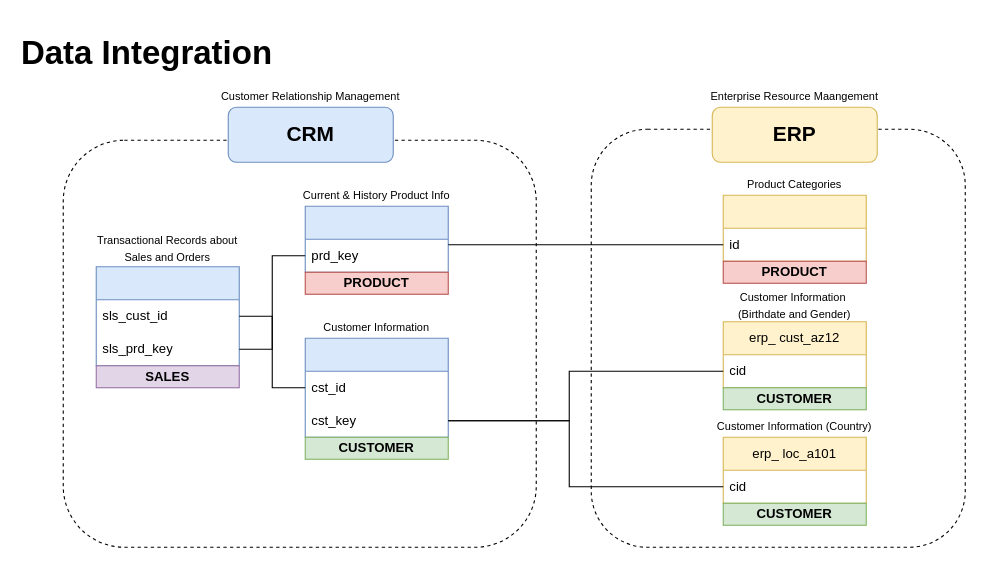
This 985x567 diagram has some shape labels left out. Each missing label, with the box of its shape:
crm_cust_info: (304, 337, 448, 437)
crm_prd_info: (304, 205, 448, 272)
crm_sales_details: (95, 266, 239, 366)
erp_ px_cat_g1v2: (722, 194, 866, 261)
